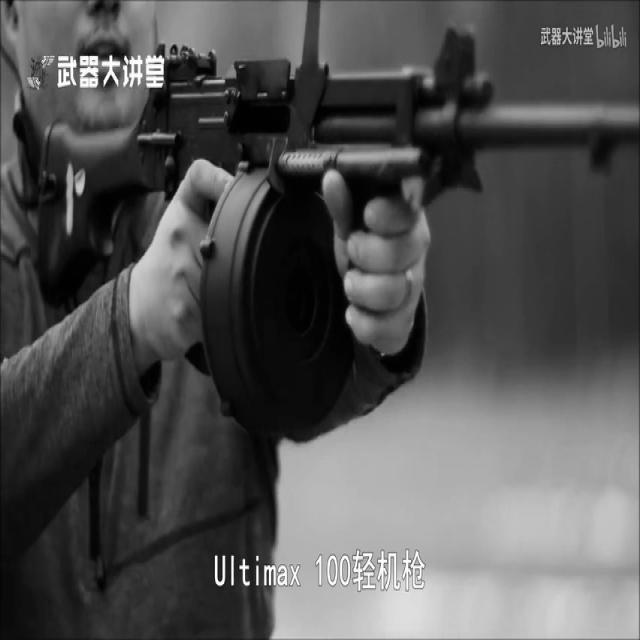Sniper: (0, 0, 640, 383)
